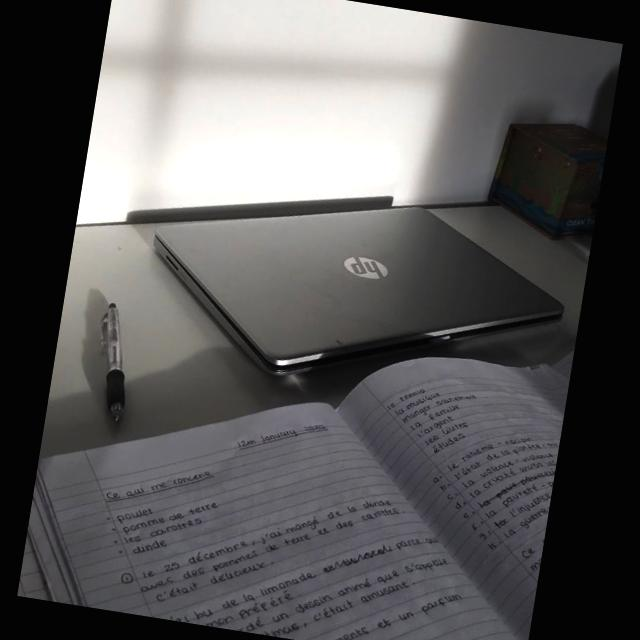laptop: (154, 207, 563, 372)
